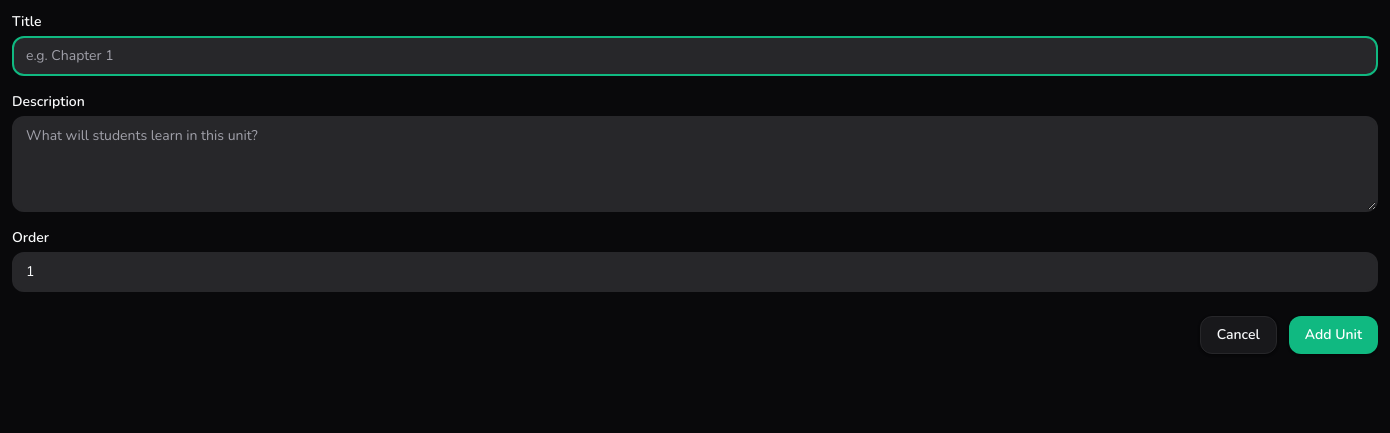
Test: UnitForm › shows title required error when title is empty on submit
The width and height of the screenshot is (1390, 433).
Type "A description" into the text box labelled "Description" at (695, 164), box top-left (12, 116), bottom-right (1378, 212)
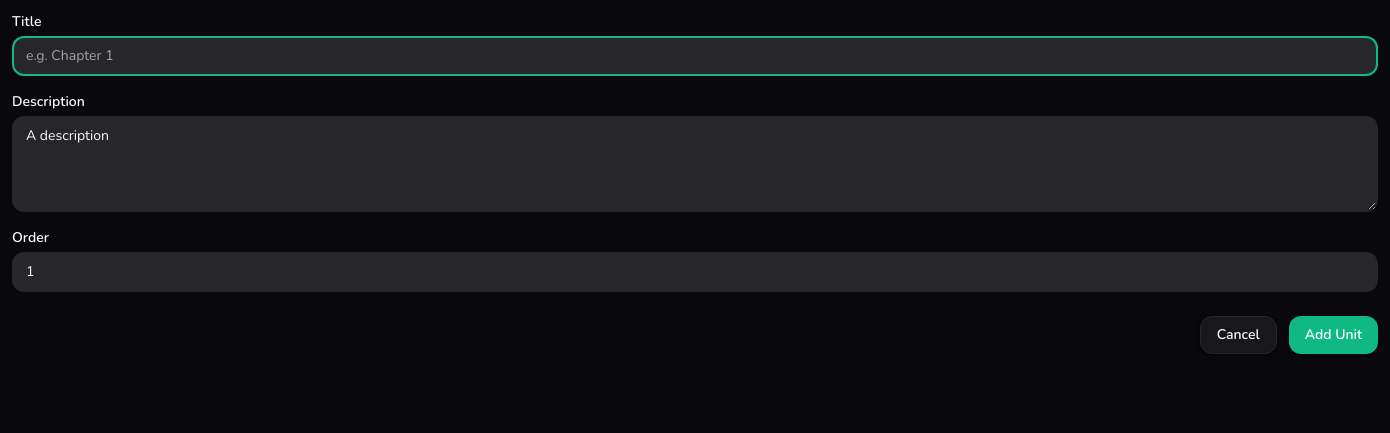
Submit the form "Title Description Order Cancel Add Unit"
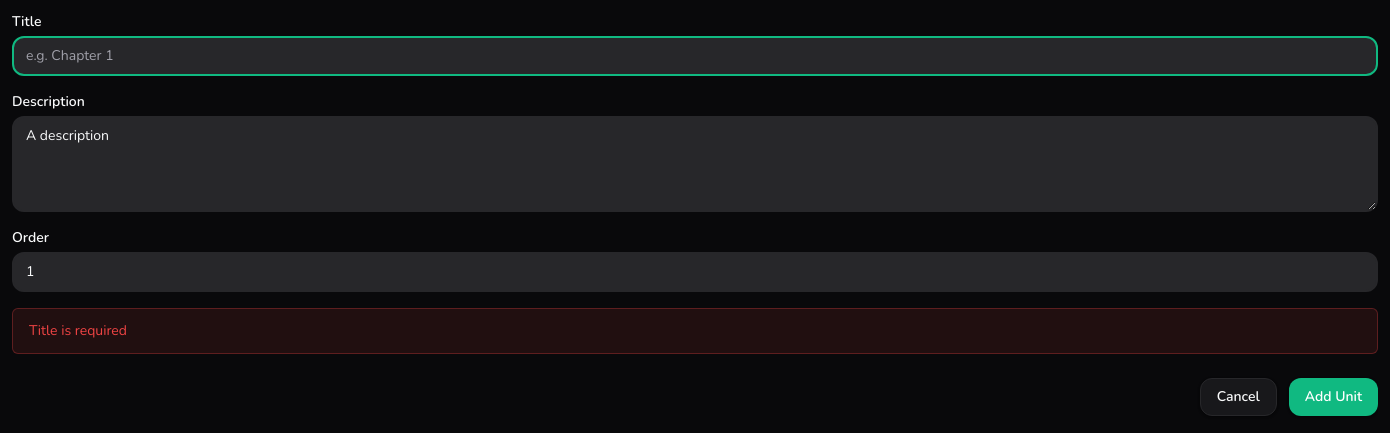
Check: the text "Title is required" is shown, box top-left (12, 308), bottom-right (1378, 354)
